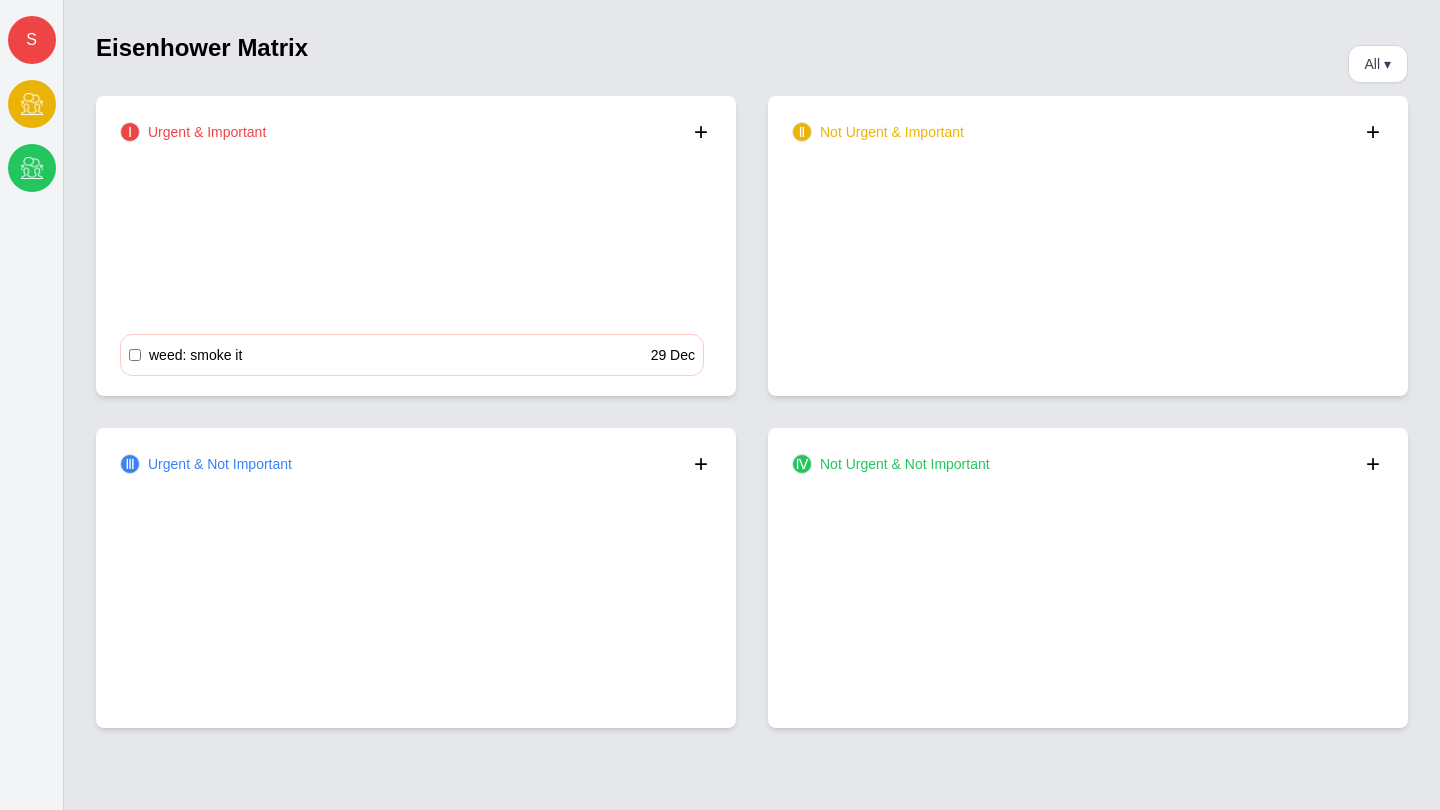
Test case: NewHome Component Category Selector › opens the category selector and selects a category
The width and height of the screenshot is (1440, 810).
Expected: the text "Eisenhower Matrix" is shown, [96,32,308,64]
Note: Open the category selector
Click the button with test id "category-selector". click: point(1378, 64)
box: [1348,45,1408,83]
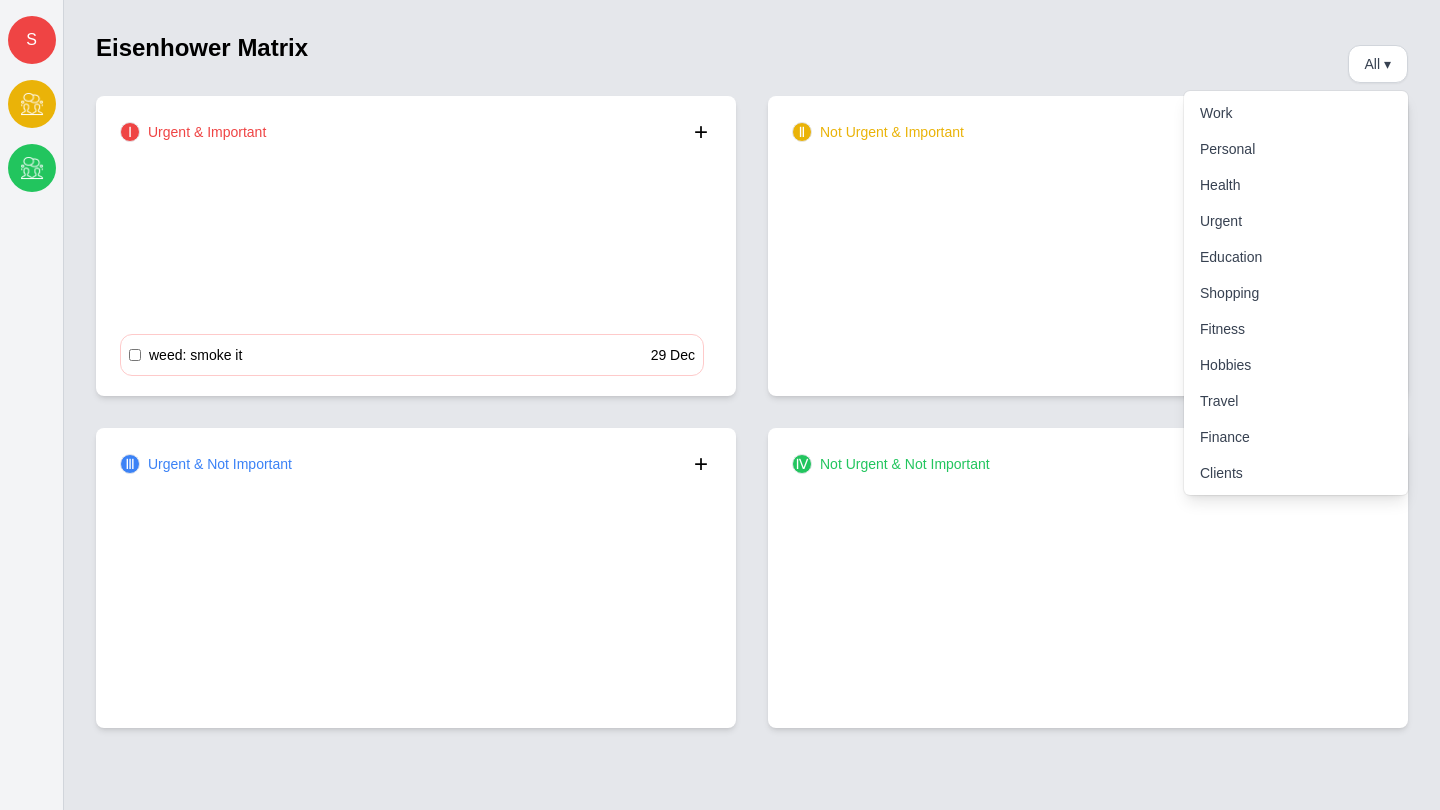
Expected: the button "Hobbies" is shown, [1184,347,1408,383]
Expected: the button "Shopping" is shown, [1184,275,1408,311]
Note: Select a category from the dropdown or list
Click the button with test id "1". click: point(1296, 113)
box: [1184,95,1408,131]
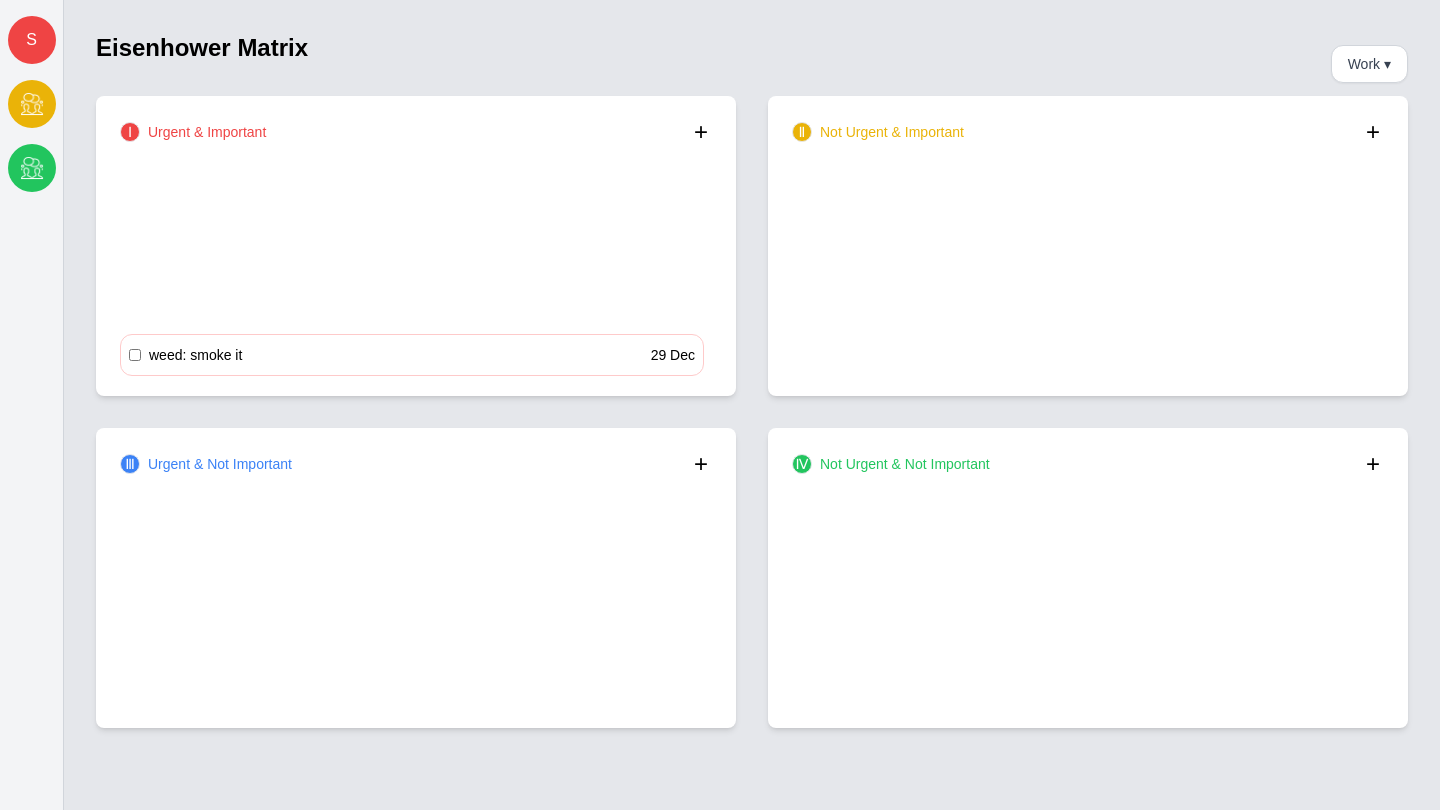
Expected: the button with test id "category-selector" shows "Work", [1331,45,1408,83]
